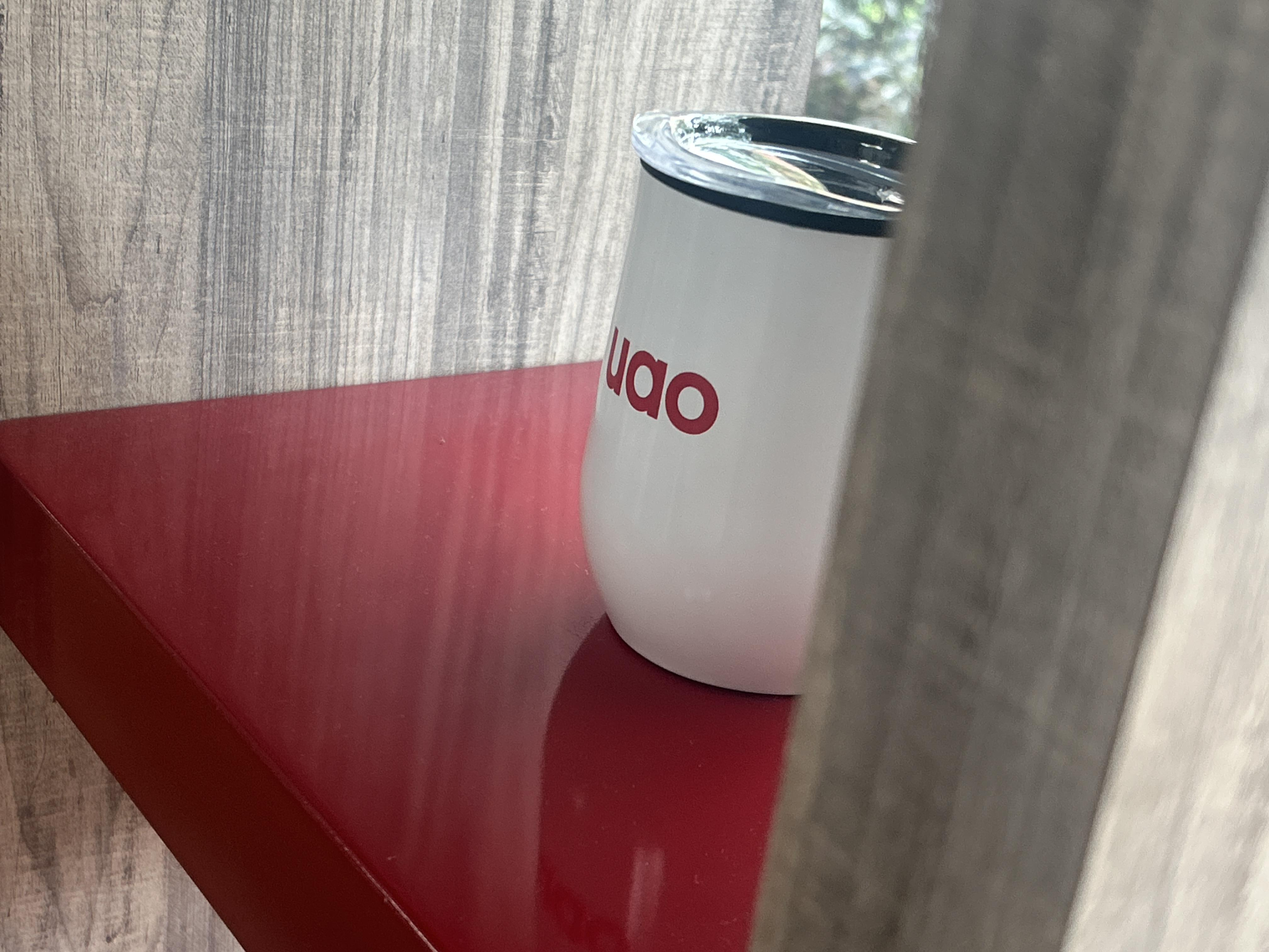vaso: (581, 112, 915, 694)
